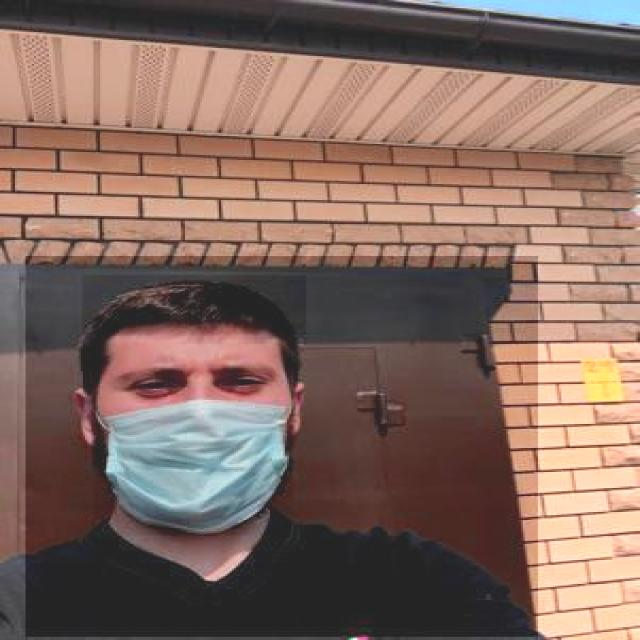face_mask: (94, 342, 291, 536)
head_nohelmet: (83, 276, 306, 334)
person: (26, 256, 540, 638)
